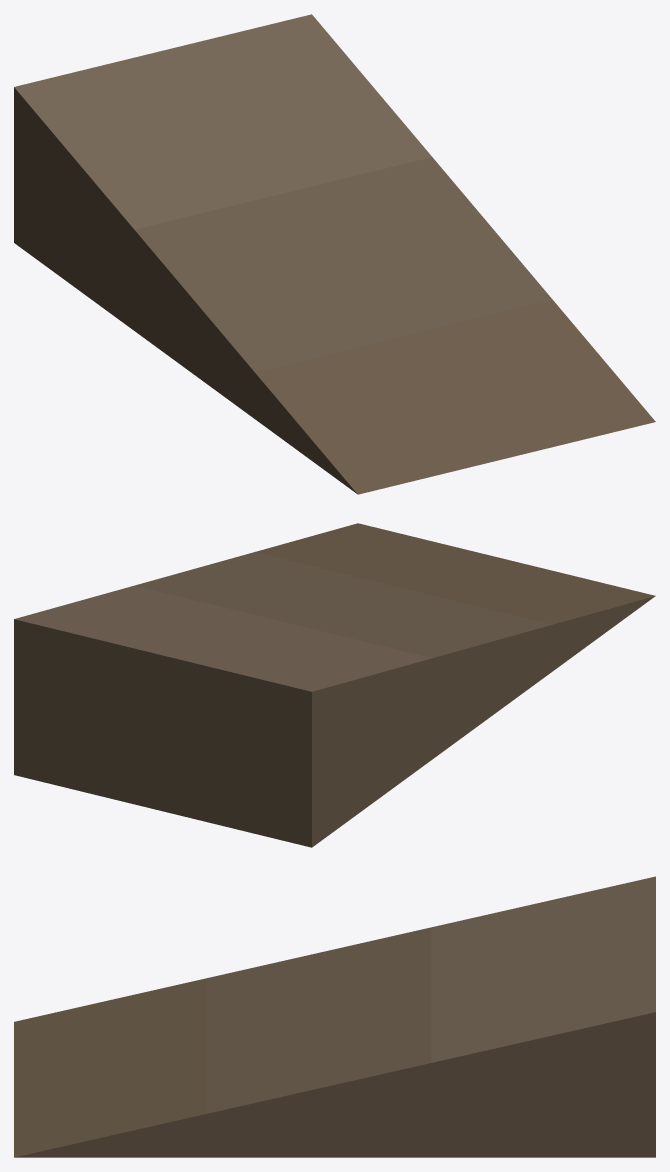
Rendered from ramp_dirt_4m.glb.
3 renders of one model, top to bottom at view 1: azimuth 30°, elevation 25°; view 2: azimuth 150°, elevation 25°; view 3: azimuth 270°, elevation 25°, orthographic. The views are drawn at different scales.
Parts seen in each view (by area): view 1: Body_ramp_dirt_4m.001; view 2: Body_ramp_dirt_4m.001; view 3: Body_ramp_dirt_4m.001.
Part boxes in pixels (<box>): Body_ramp_dirt_4m.001: <box>14,14,655,494</box>; Body_ramp_dirt_4m.001: <box>14,523,655,847</box>; Body_ramp_dirt_4m.001: <box>14,876,655,1157</box>.
Bounding box in the file's own units: 2 × 1 × 4.
